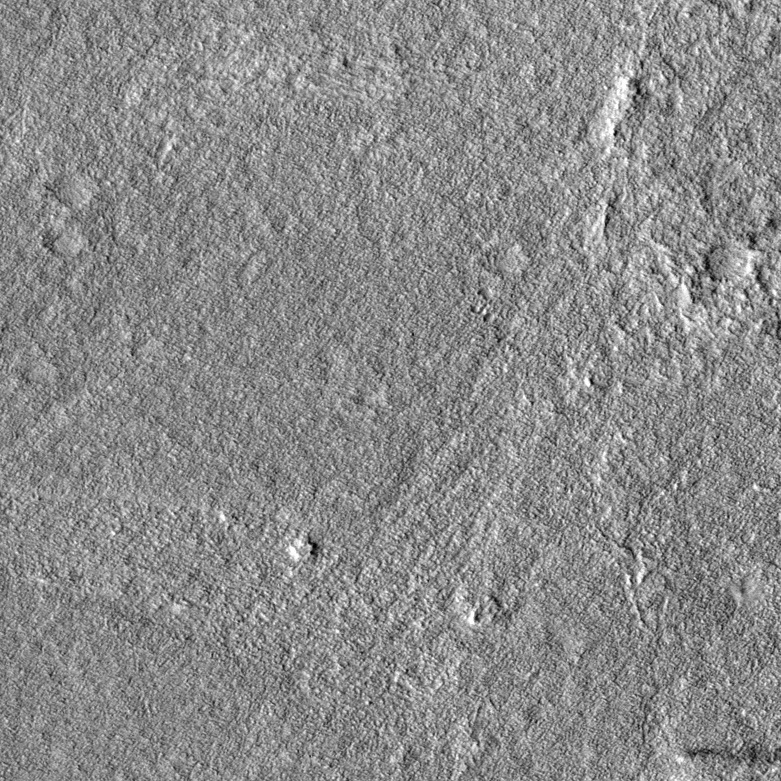dust_devil: (671, 741, 781, 770)
